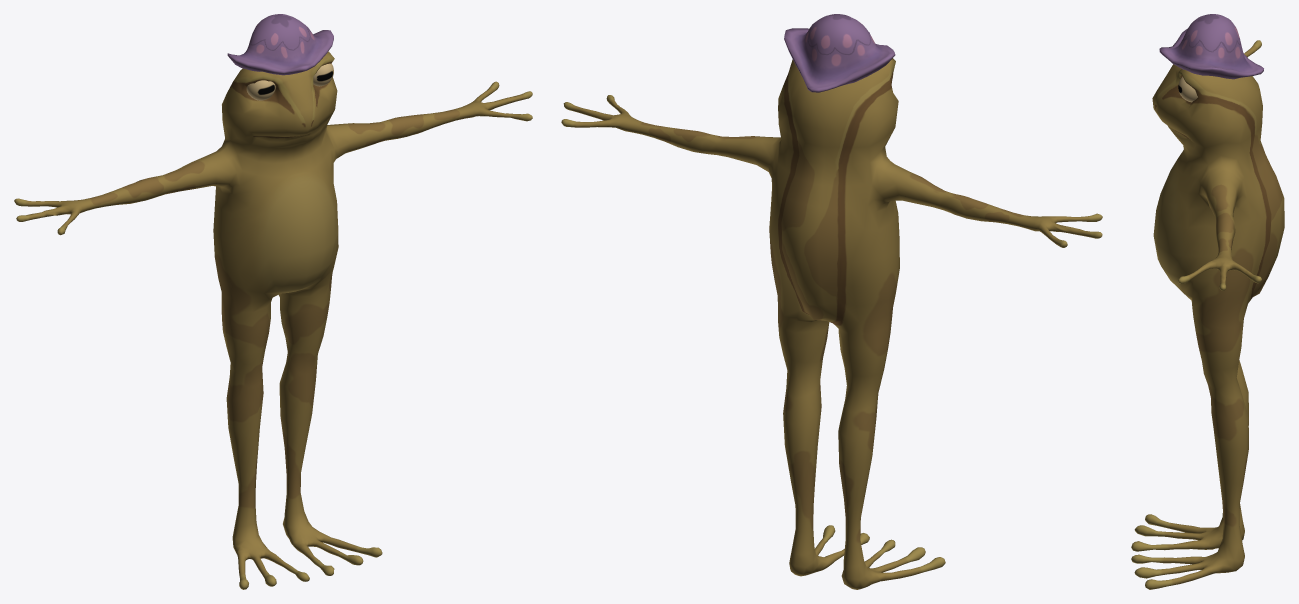
The model's file is Frog monster_lp.fbx.
3 renders of one model, left to right at view 1: azimuth 30°, elevation 25°; view 2: azimuth 150°, elevation 25°; view 3: azimuth 270°, elevation 25°, orthographic. The views are drawn at different scales.
Visible parts, largest first — view 1: Frog_lp, Lily hat, Eyes; view 2: Frog_lp, Lily hat; view 3: Frog_lp, Lily hat, Eyes.
Part boxes in pixels (<box>): Frog_lp: <box>14,51,532,589</box>; Lily hat: <box>227,14,333,75</box>; Eyes: <box>246,63,333,100</box>; Frog_lp: <box>561,58,1102,589</box>; Lily hat: <box>784,14,895,92</box>; Frog_lp: <box>1131,40,1284,589</box>; Lily hat: <box>1159,14,1263,79</box>; Eyes: <box>1178,76,1197,102</box>.
Size of the model in its own units: 309 by 307 by 78.9.
1 material, 1 textured.
